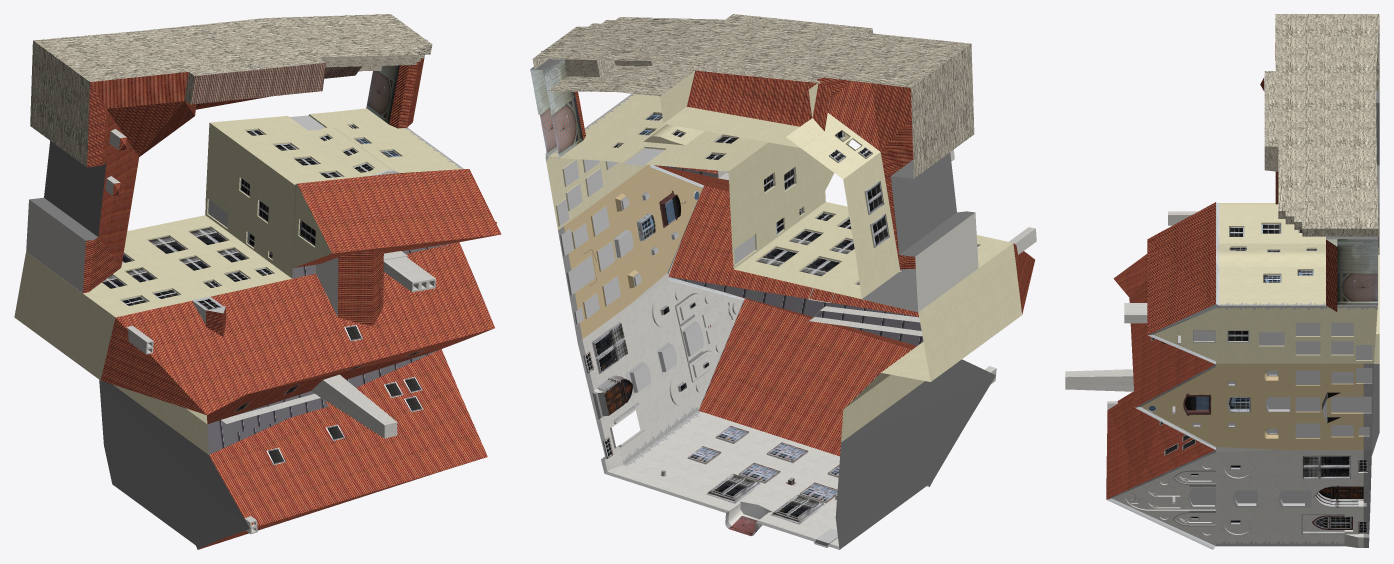
Rendered from Pikk_71.obj.
3 views of the same model, side by side, from view 1: azimuth 30°, elevation 25°; view 2: azimuth 150°, elevation 25°; view 3: azimuth 270°, elevation 25° (orthographic). The views are drawn at different scales.
Visible parts, largest first — view 1: Pikk_71; view 2: Pikk_71; view 3: Pikk_71.
Part boxes in pixels (left/top/right/bottom): Pikk_71: left=14, top=14, right=501, bottom=549; Pikk_71: left=530, top=14, right=1036, bottom=549; Pikk_71: left=1065, top=14, right=1379, bottom=549.
Bounding box in the file's own units: 30.43 × 34.64 × 23.22.
